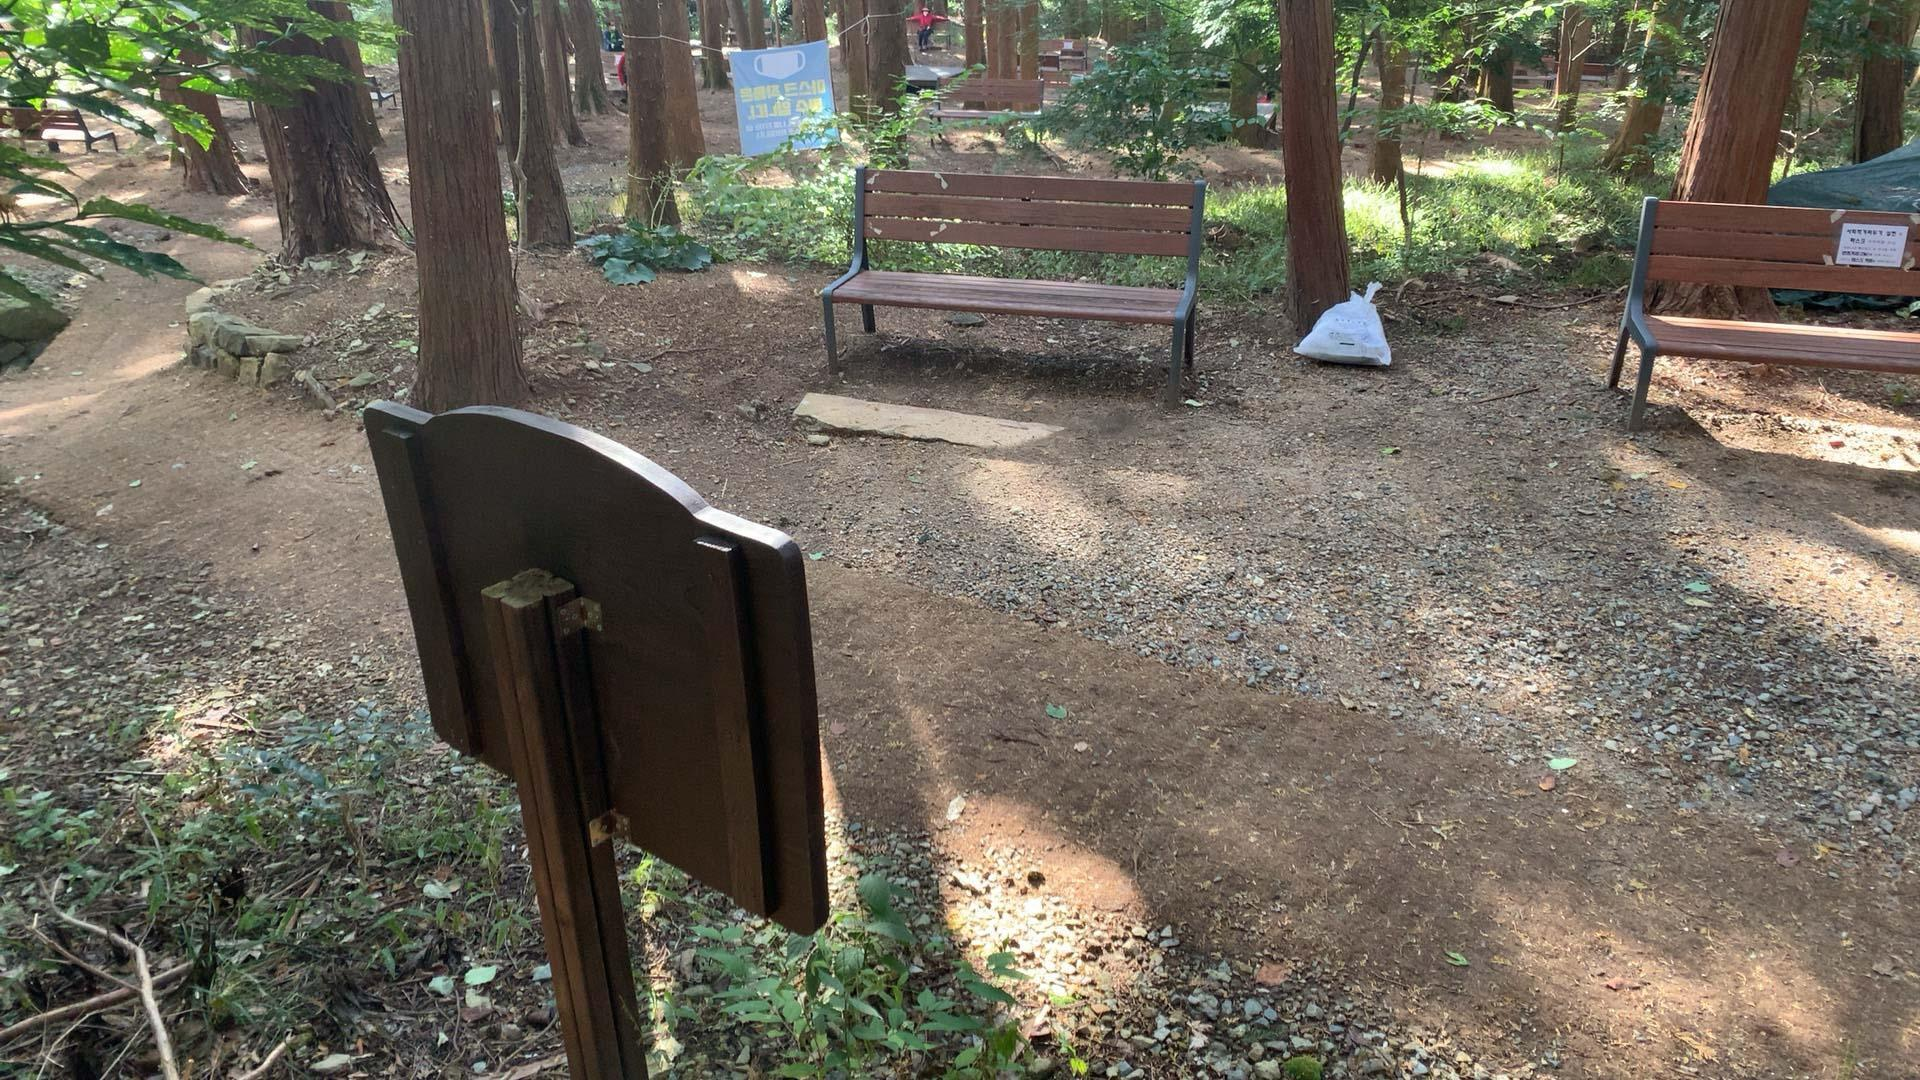white_bag: (1288, 276, 1396, 369)
